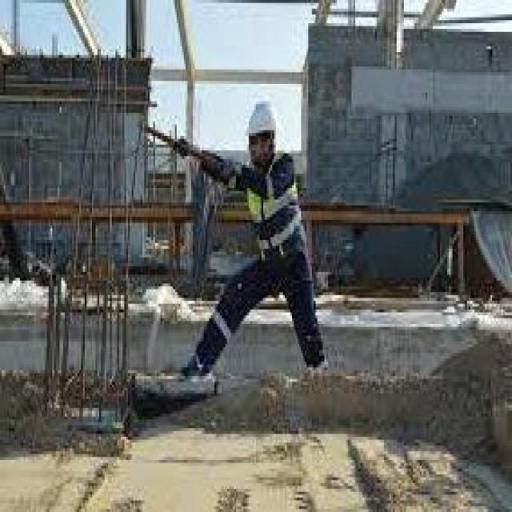helmet: (238, 86, 281, 145)
vest: (232, 151, 318, 275)
